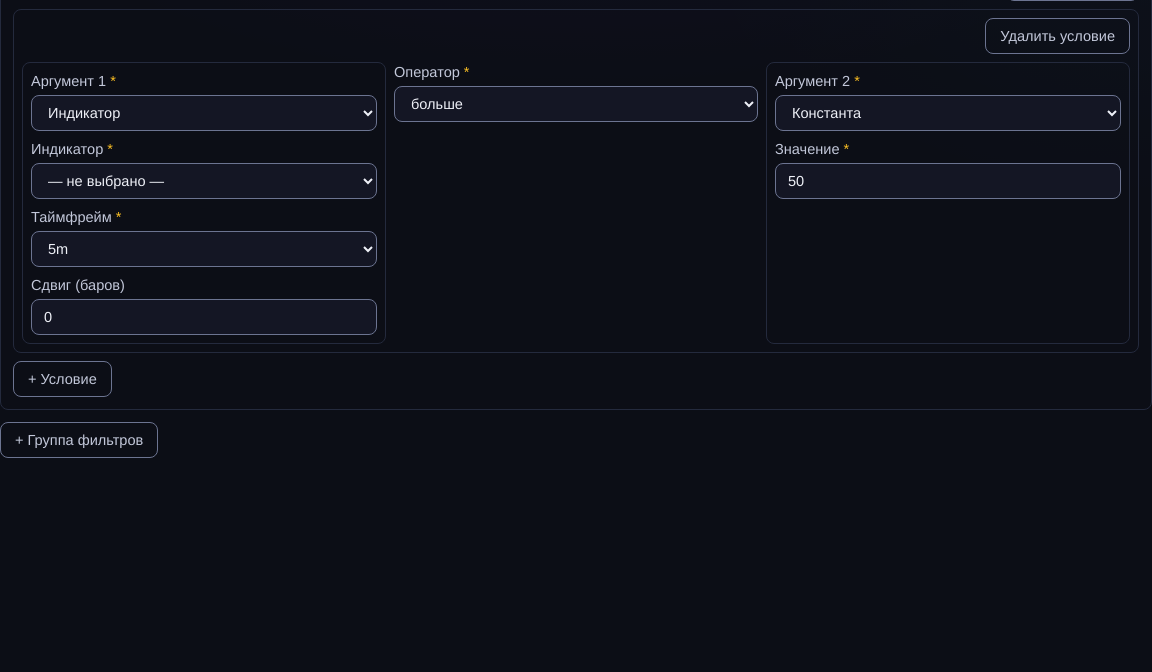
Test: MVP-7.2 I3: предзаполнение из каталога и пометка источника › выбор MACD подставляет параметры 12/26/9 с пометкой «выбор проекта»; поля периода нет
Select "MACD" in the dropdown named "Индикатор" at [204, 181], box [31,163,377,199]
(page scrolled)
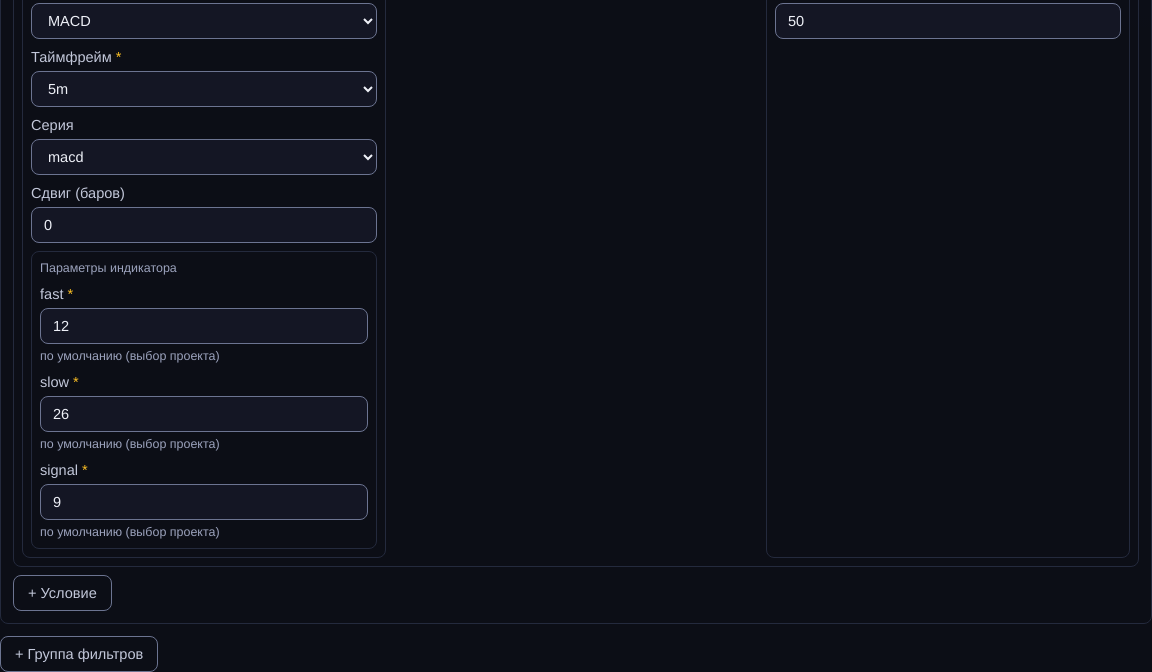
Now the number field named "fast" holds "12", box [40,308,368,344]
Now the number field named "slow" holds "26", box [40,396,368,432]
Now the number field named "signal" holds "9", box [40,484,368,520]
